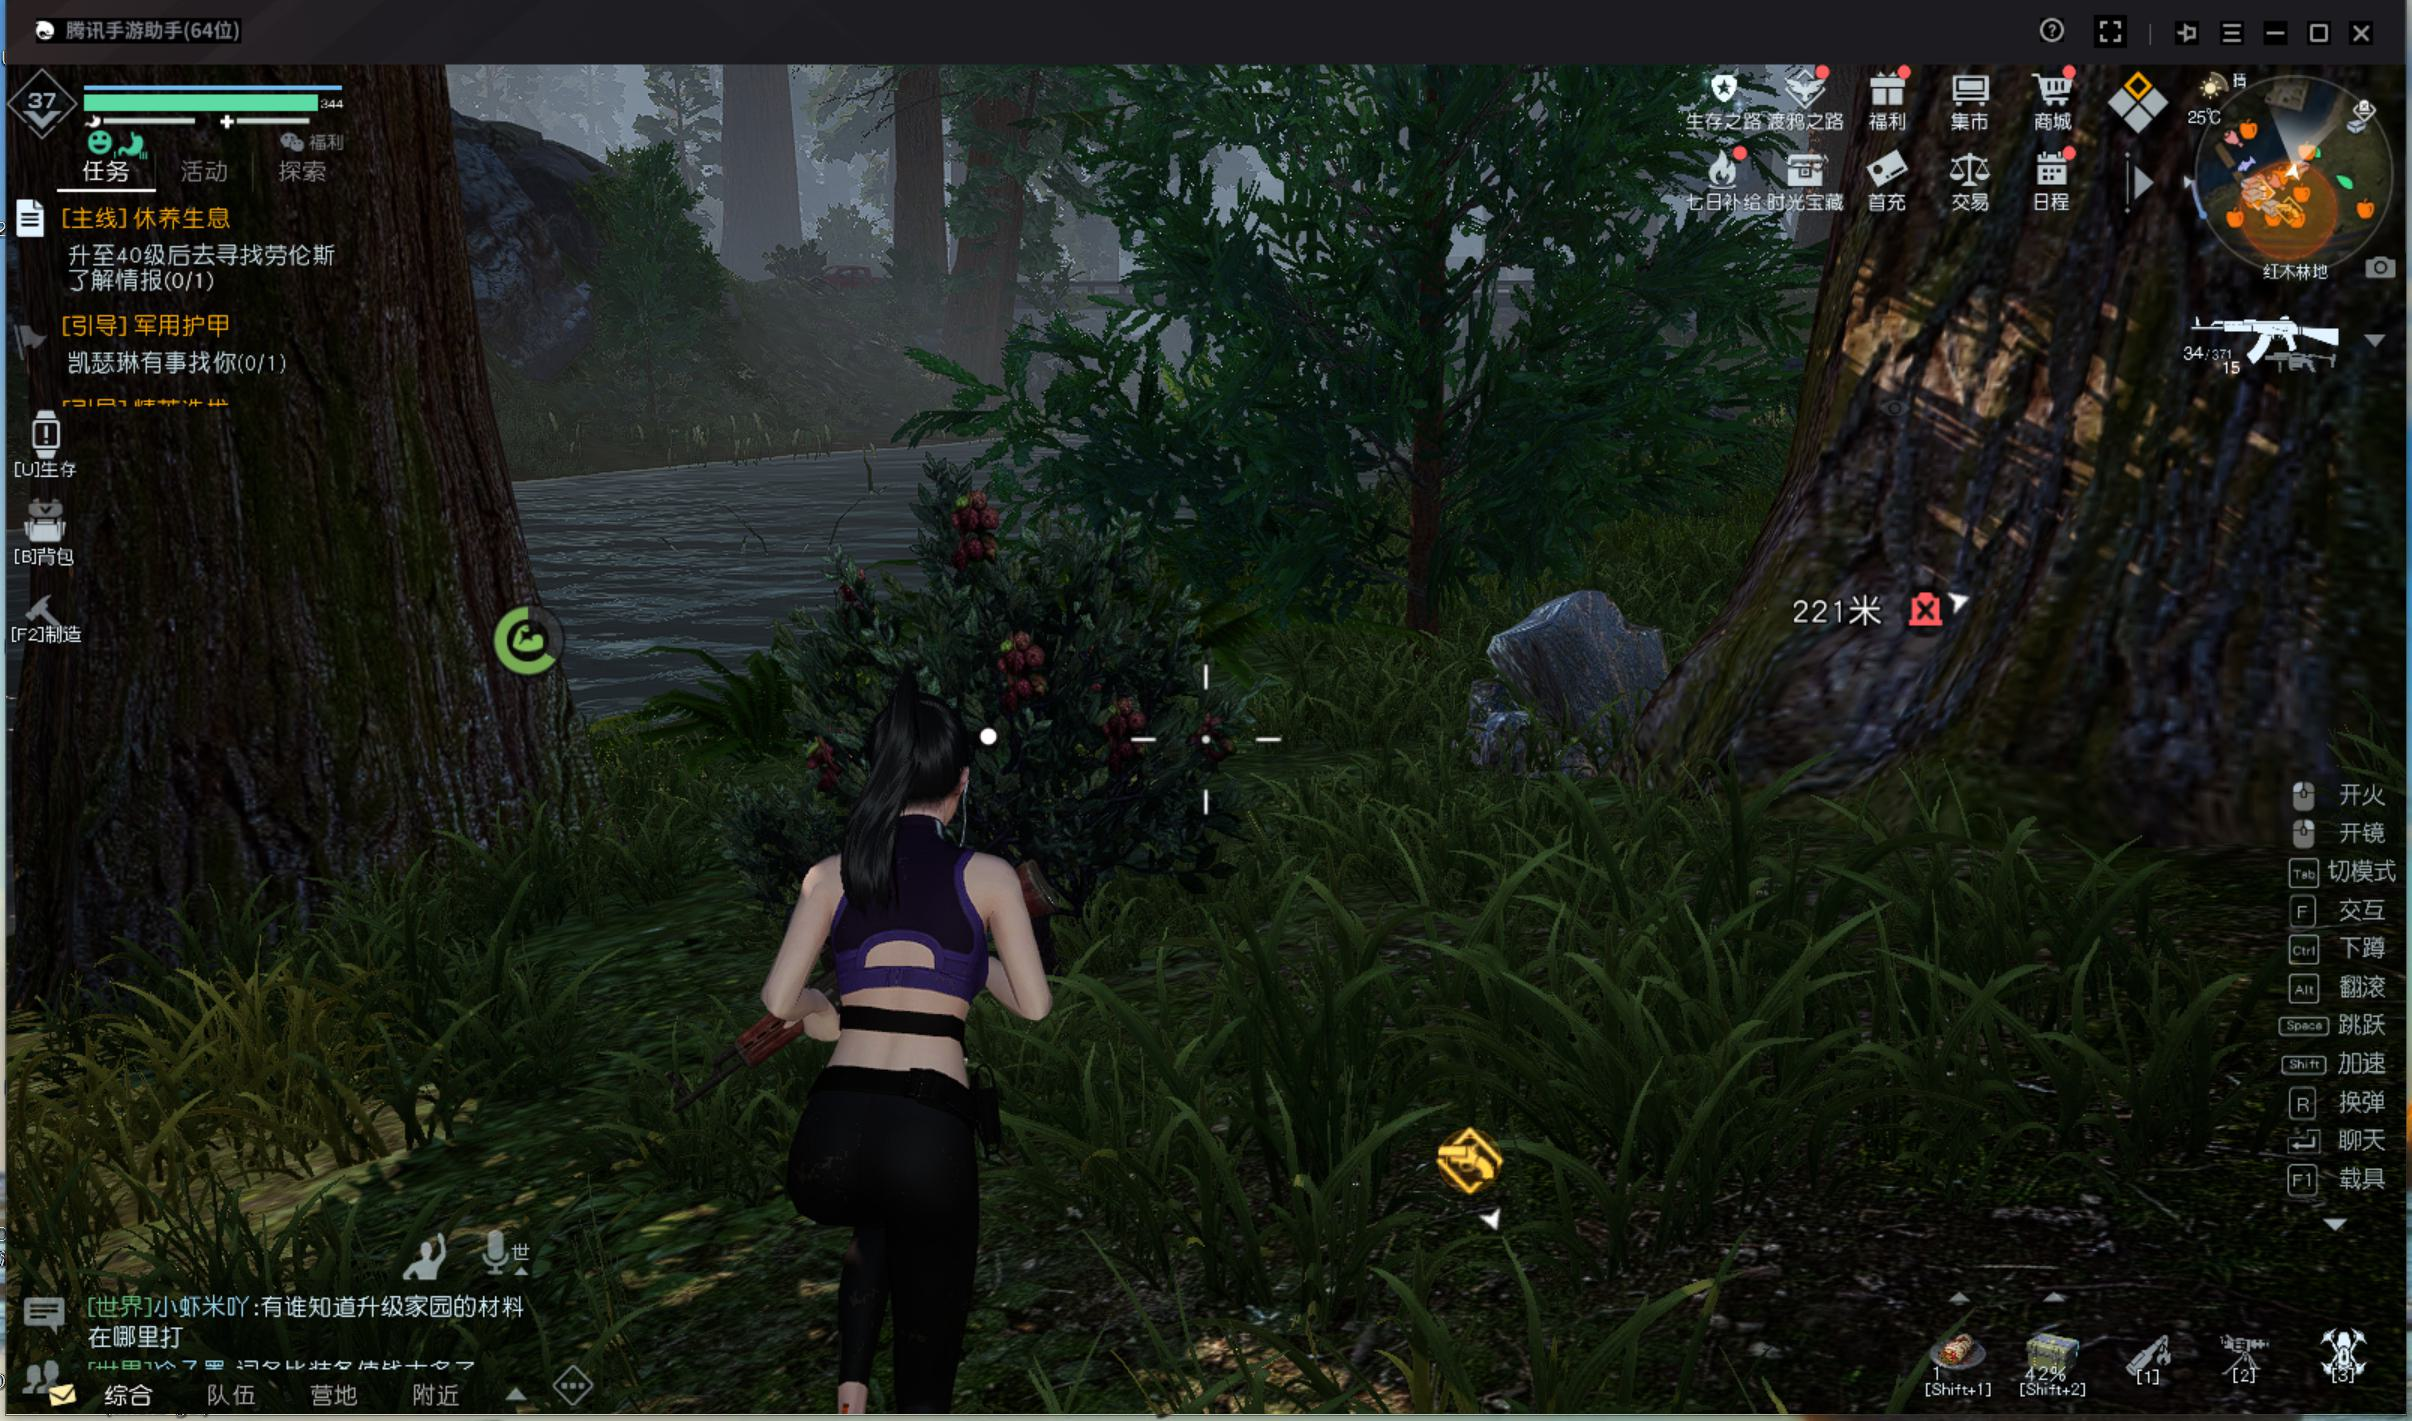stone: (1411, 535, 1719, 788)
